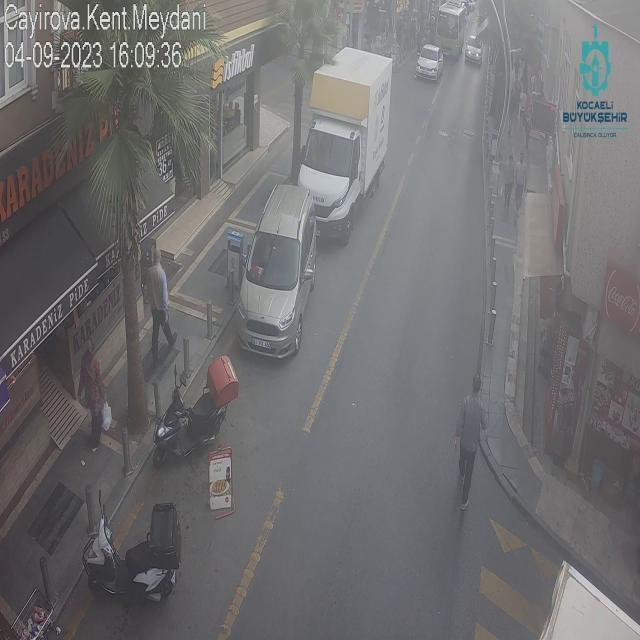Bus: (435, 1, 468, 58)
Car: (231, 180, 322, 362), (415, 44, 444, 81), (464, 36, 485, 66)
Cycle: (81, 500, 181, 607), (150, 355, 240, 466)
Truck: (296, 47, 394, 247)
